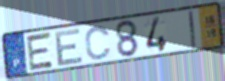4: (145, 14, 169, 53)
8: (114, 19, 140, 58)
C: (84, 24, 112, 62)
E: (54, 26, 85, 68), (25, 30, 55, 73)
I: (187, 9, 198, 49)
